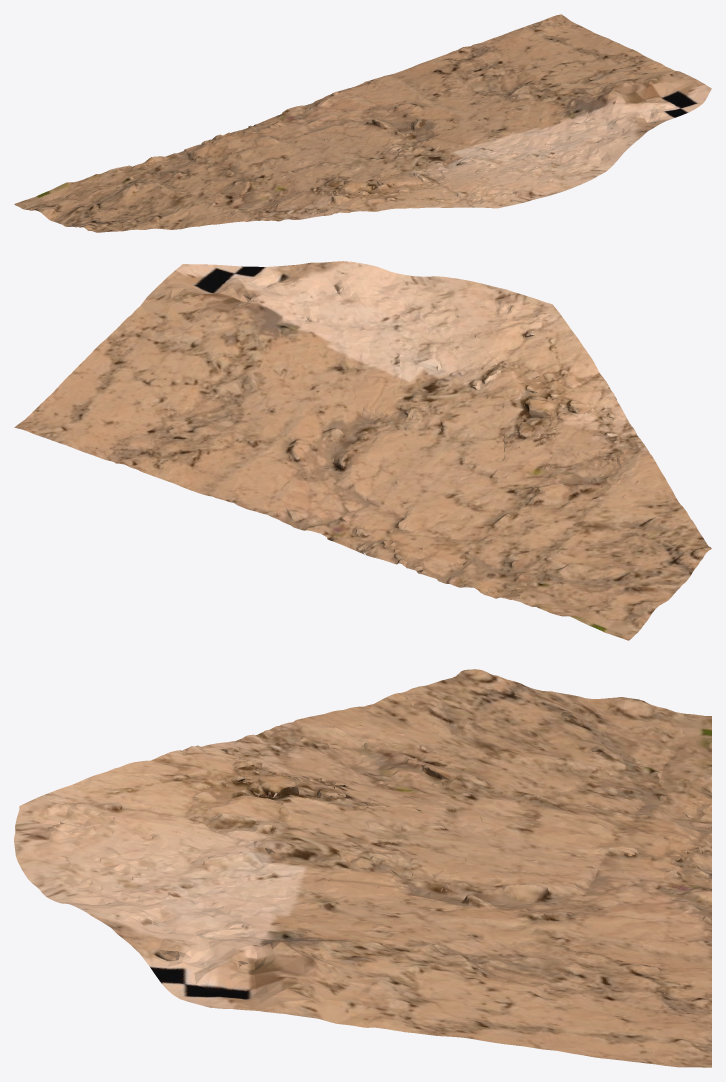
3 views of the same model, one above another, from view 1: azimuth 30°, elevation 25°; view 2: azimuth 150°, elevation 25°; view 3: azimuth 270°, elevation 25° (orthographic). The views are drawn at different scales.
Size of the model in its own units: 33.42 by 5.52 by 22.14.
2 materials, 2 textured.
